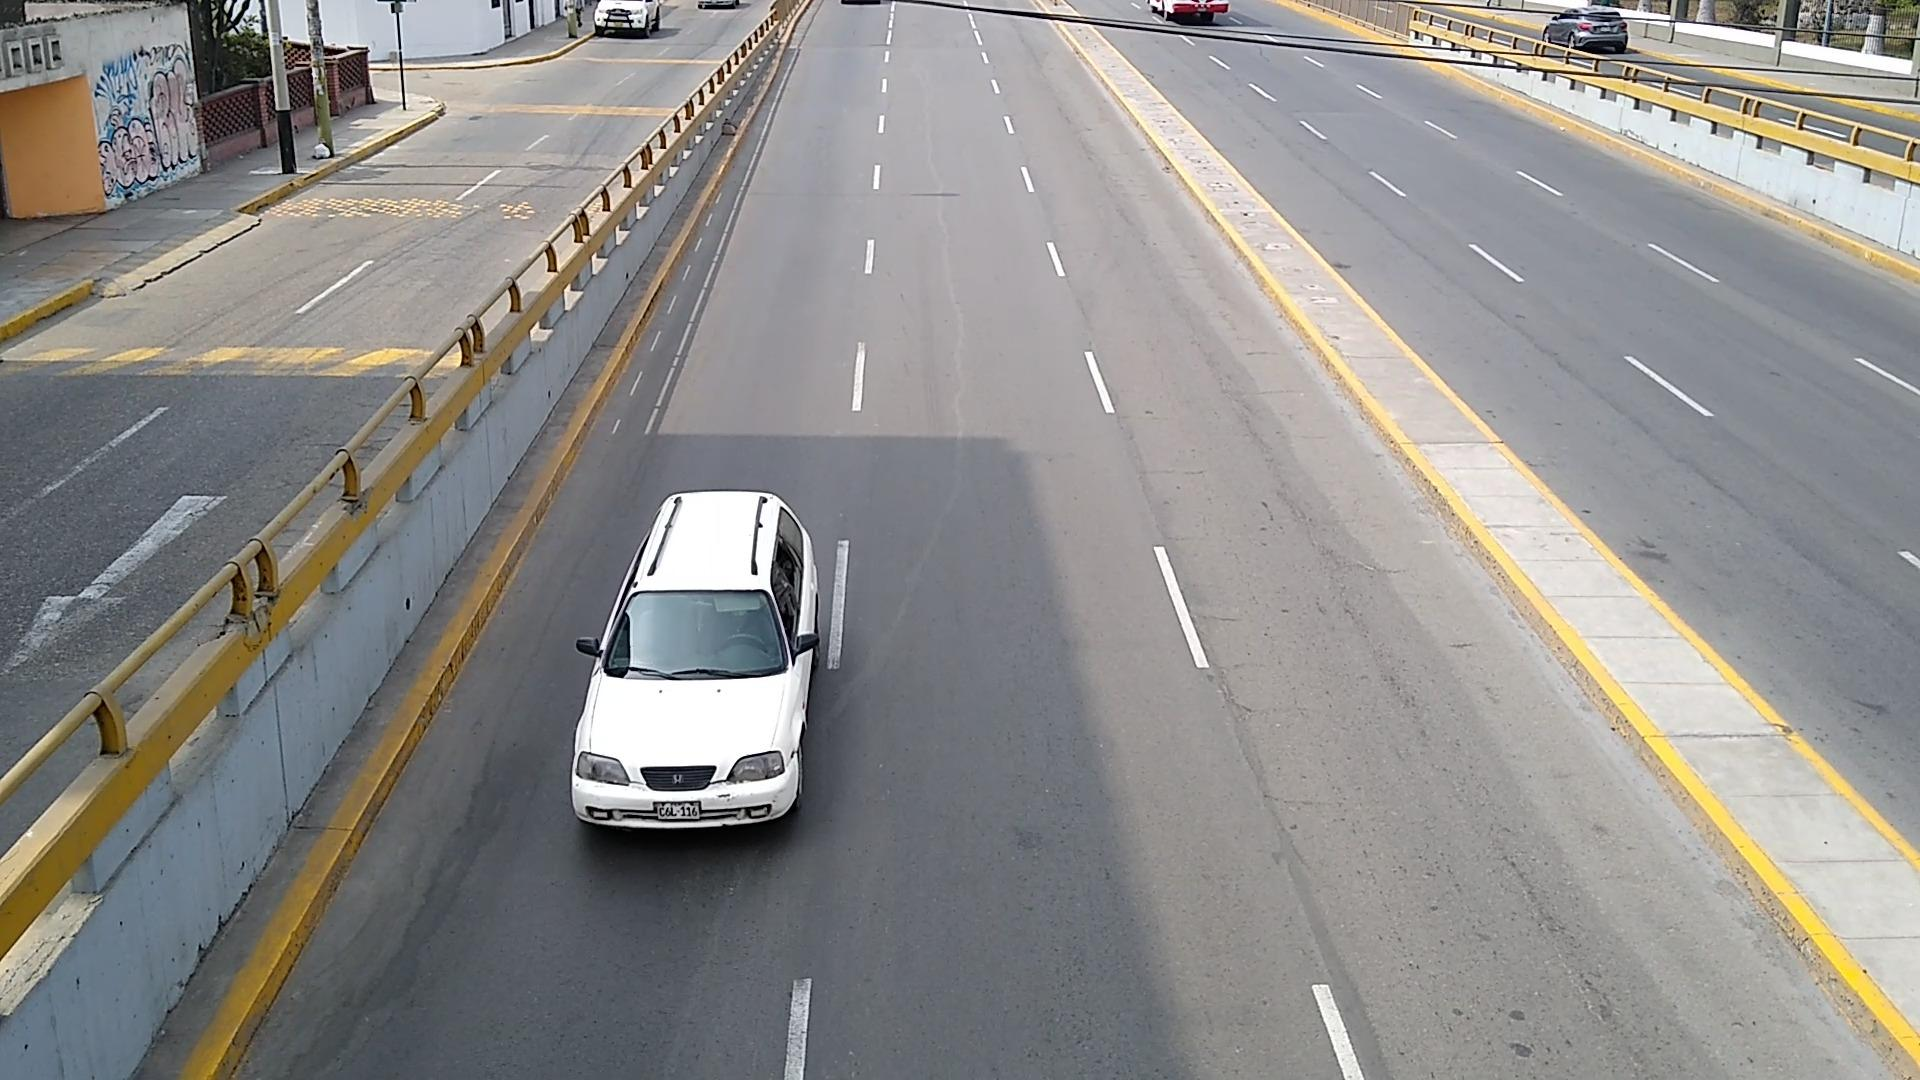car: (570, 492, 822, 832), (1542, 8, 1627, 53), (592, 0, 659, 36)
